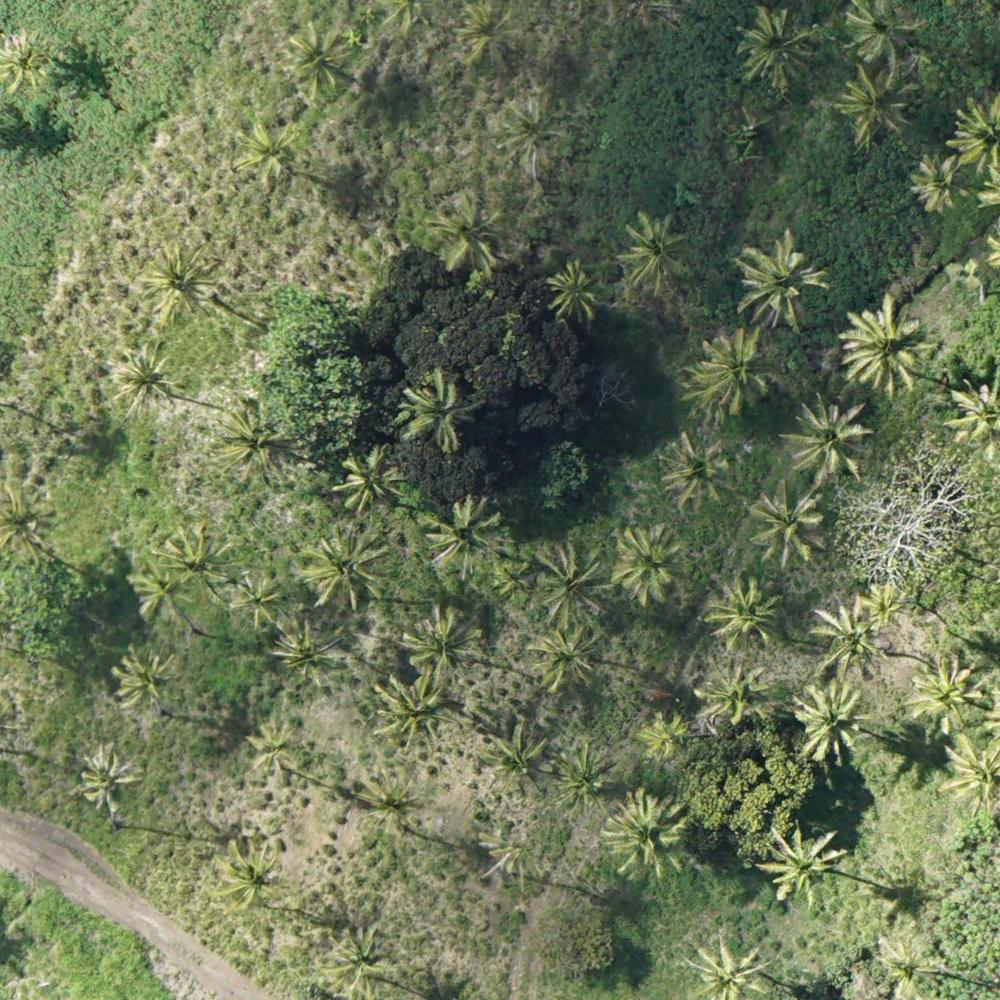Palm: (734, 231, 828, 327), (840, 302, 936, 393), (764, 818, 847, 910), (785, 393, 869, 483), (429, 186, 515, 273), (522, 540, 613, 622), (739, 2, 819, 94), (297, 525, 385, 608), (215, 402, 297, 491), (743, 483, 831, 563), (604, 795, 687, 879), (795, 677, 874, 764), (620, 211, 698, 299), (400, 601, 480, 686), (608, 523, 689, 605), (376, 672, 457, 754), (699, 328, 776, 411), (141, 243, 220, 322), (806, 605, 886, 683), (152, 522, 238, 593), (403, 368, 479, 448), (704, 576, 785, 651), (430, 497, 508, 573), (659, 428, 734, 507), (214, 839, 293, 913), (686, 933, 772, 1000), (907, 657, 987, 729), (478, 722, 551, 800), (318, 926, 398, 997), (283, 18, 358, 93), (837, 65, 913, 139), (109, 647, 185, 717), (938, 733, 1000, 813), (701, 662, 776, 728), (503, 95, 570, 166), (337, 446, 413, 508), (79, 747, 147, 816), (123, 562, 195, 627), (839, 1, 919, 59), (455, 1, 525, 67), (874, 929, 939, 1000), (268, 623, 335, 691), (114, 350, 180, 419), (362, 773, 431, 839), (236, 121, 306, 186), (532, 624, 599, 689), (1, 491, 59, 564), (243, 721, 307, 786), (558, 745, 617, 813), (1, 28, 61, 92), (540, 260, 601, 319), (909, 150, 963, 210), (223, 574, 285, 626), (859, 576, 913, 633), (636, 713, 690, 769)
